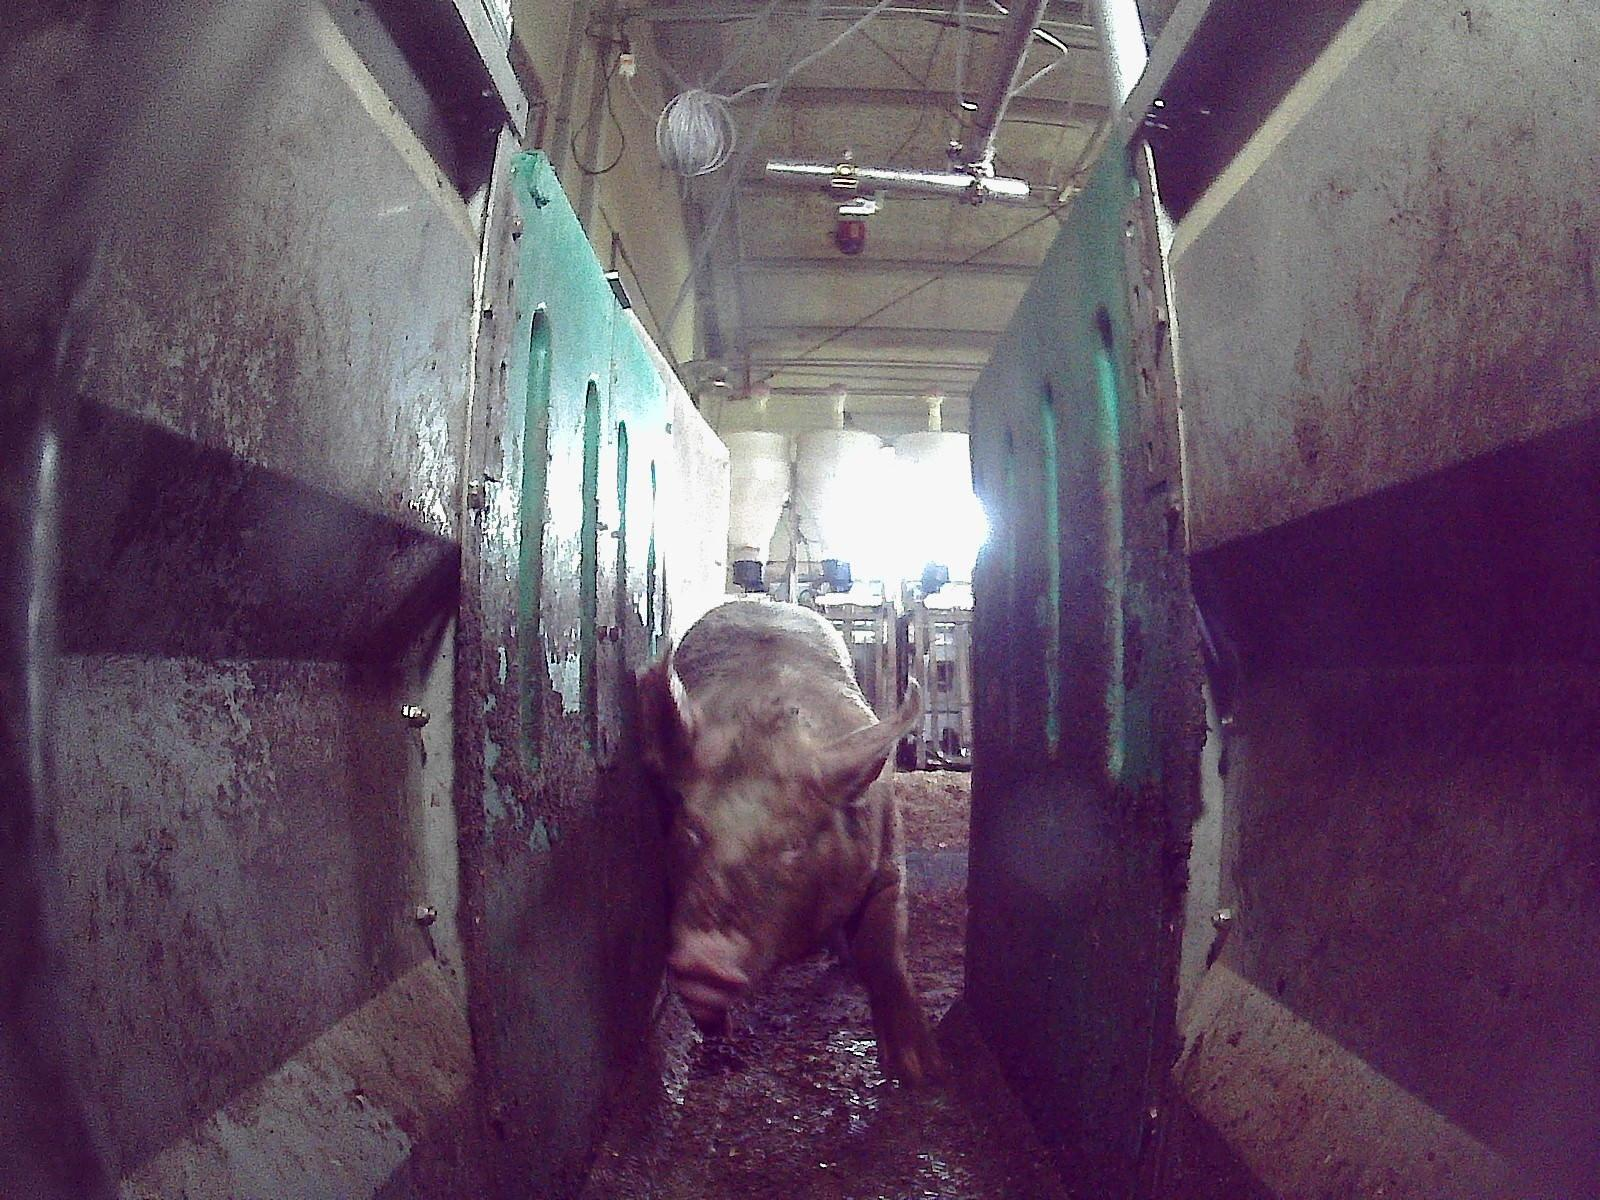Face: (660, 727, 867, 1012)
